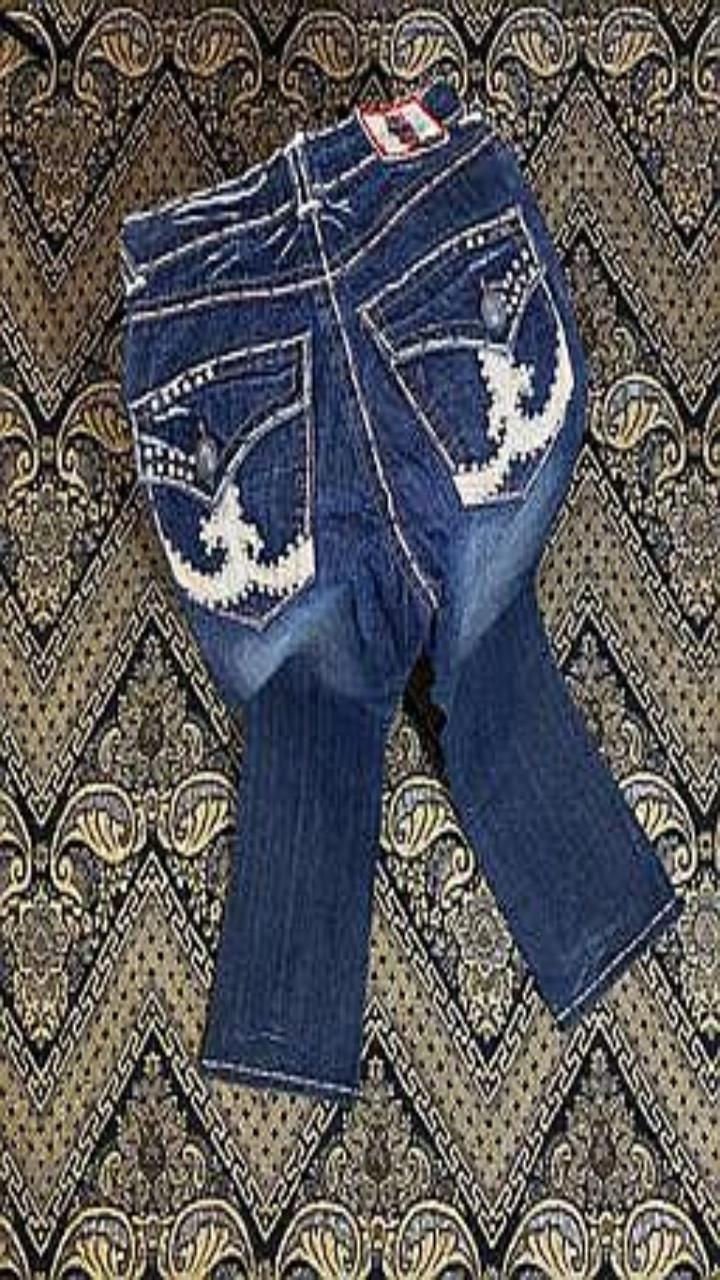Jeans: (121, 79, 680, 1097)
